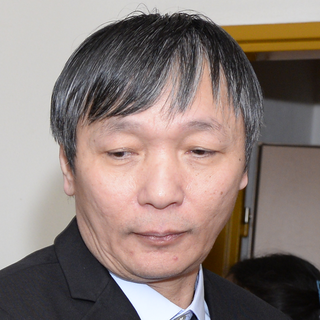eye: (172, 134, 227, 164), (93, 138, 147, 167)
